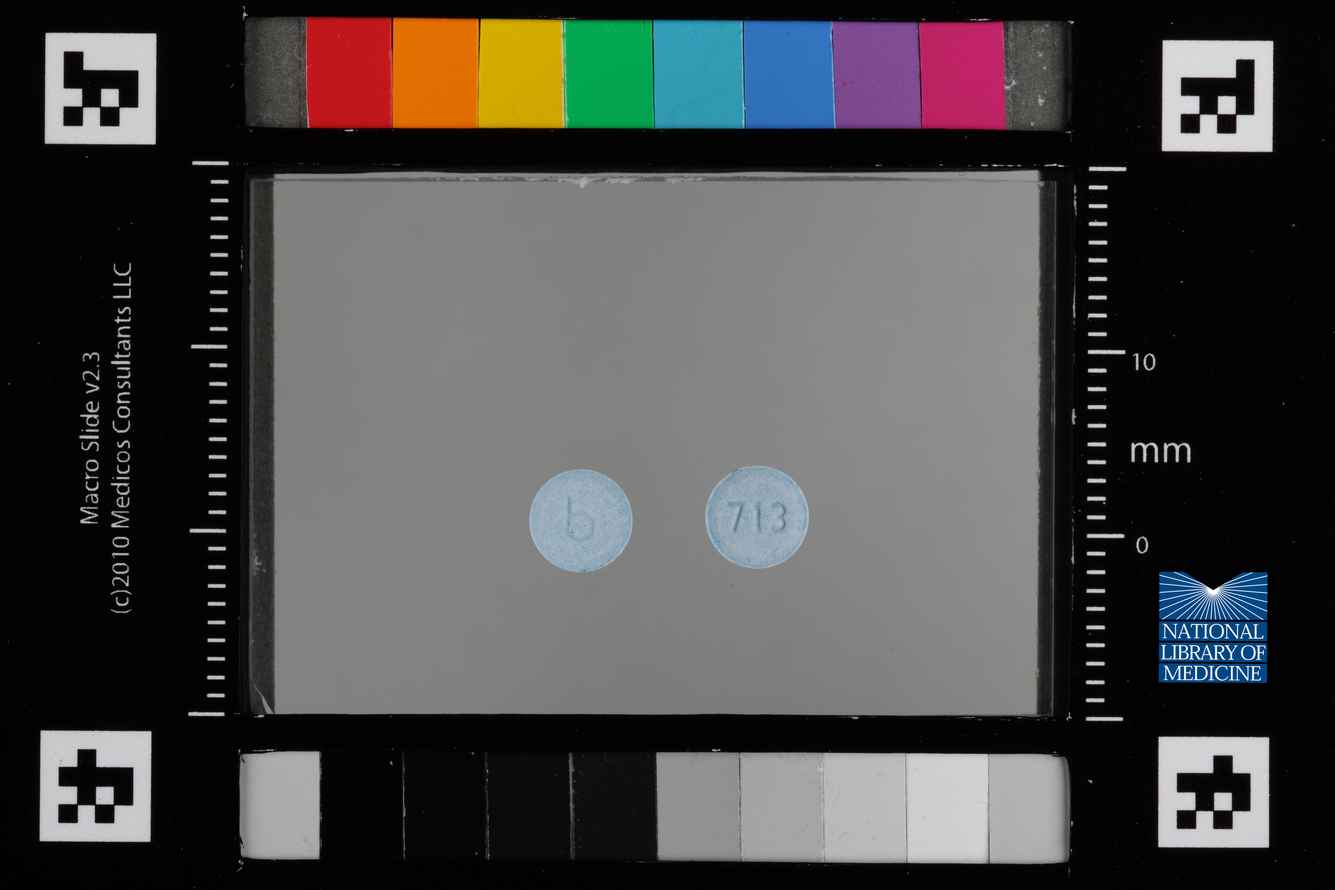Pill: (694, 456, 818, 582), (518, 461, 642, 582)
